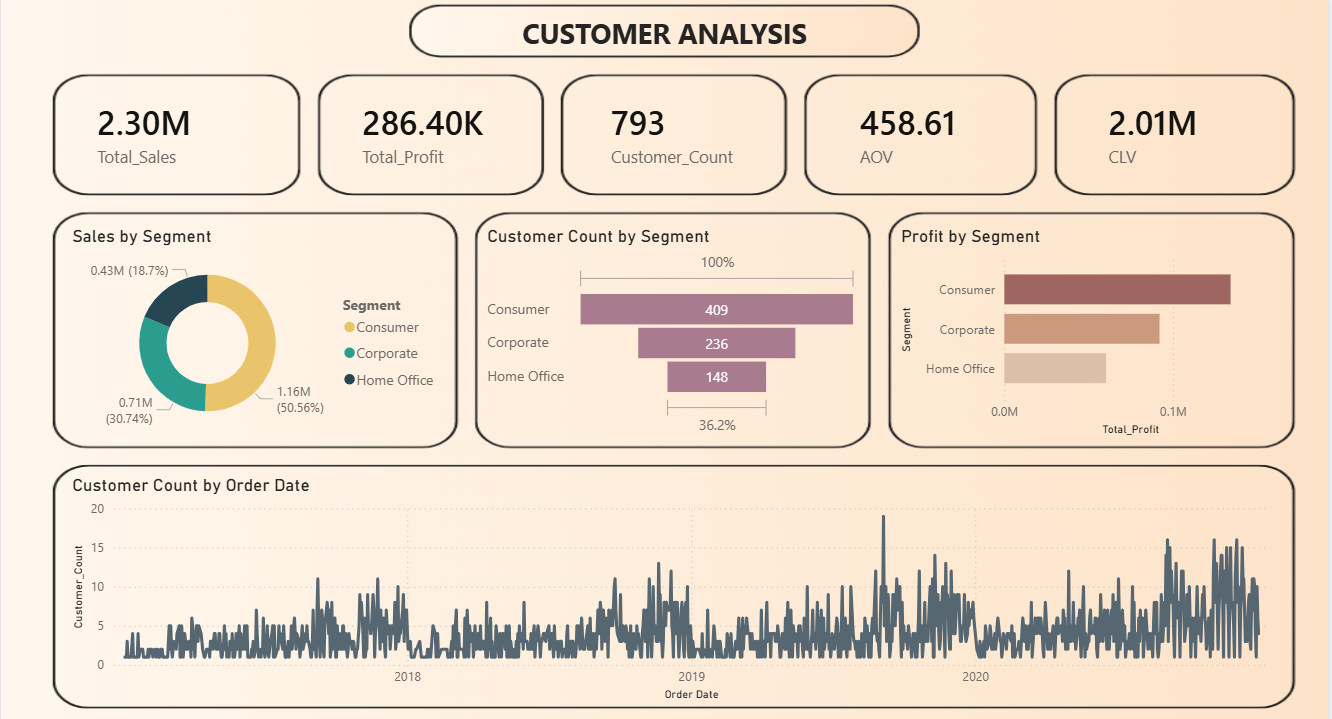

The page's visual inventory and layout, read from the dashboard file:
{"tool":"powerbi","page":{"name":"Customer Analysis","canvas":[1280,720],"ordinal":1},"visuals":[{"type":"cardVisual","title":"Total Sales","fields":{"Data":["Orders.Total_Sales"]},"box":[64,80,208,112],"z":0},{"type":"cardVisual","title":"Total Profit","fields":{"Data":["Orders.Total_Profit"]},"box":[320,80,192,112],"z":1},{"type":"cardVisual","title":"Customer Count","fields":{"Data":["Orders.Customer_Count"]},"box":[560,80,176,112],"z":2},{"type":"cardVisual","title":"Aov Card","fields":{"Data":["Orders.AOV"]},"box":[800,80,192,112],"z":3},{"type":"cardVisual","title":"Clv Card","fields":{"Data":["Orders.CLV"]},"box":[1040,80,192,112],"z":4},{"type":"donutChart","title":"Sales by Segment","fields":{"Category":["Orders.Segment"],"Y":["Orders.Total_Sales"]},"box":[64,224,368,208],"z":5},{"type":"funnel","title":"Customer Count by Segment","fields":{"Category":["Orders.Segment"],"Y":["Orders.Customer_Count"]},"box":[464,224,368,208],"z":6},{"type":"clusteredBarChart","title":"Profit by Segment","fields":{"Category":["Orders.Segment"],"Y":["Orders.Total_Profit"]},"box":[864,224,368,208],"z":7},{"type":"lineChart","title":"Customer Count by Order Date","fields":{"Category":["Orders.Order Date"],"Y":["Orders.Customer_Count"]},"box":[64,464,1168,224],"z":8},{"type":"textbox","box":[400,16,480,48],"z":9}]}

Visuals, with their boxes in screenshot pixels (x1, y1, x2, y2):
"Total Sales" cardVisual: <region>50, 57, 270, 175</region>
"Total Profit" cardVisual: <region>321, 57, 524, 175</region>
"Customer Count" cardVisual: <region>575, 57, 761, 175</region>
"Aov Card" cardVisual: <region>828, 57, 1031, 175</region>
"Clv Card" cardVisual: <region>1082, 57, 1285, 175</region>
"Sales by Segment" donutChart: <region>50, 209, 439, 429</region>
"Customer Count by Segment" funnel: <region>473, 209, 862, 429</region>
"Profit by Segment" clusteredBarChart: <region>896, 209, 1285, 429</region>
"Customer Count by Order Date" lineChart: <region>50, 463, 1285, 700</region>
textbox: <region>406, 0, 913, 40</region>
